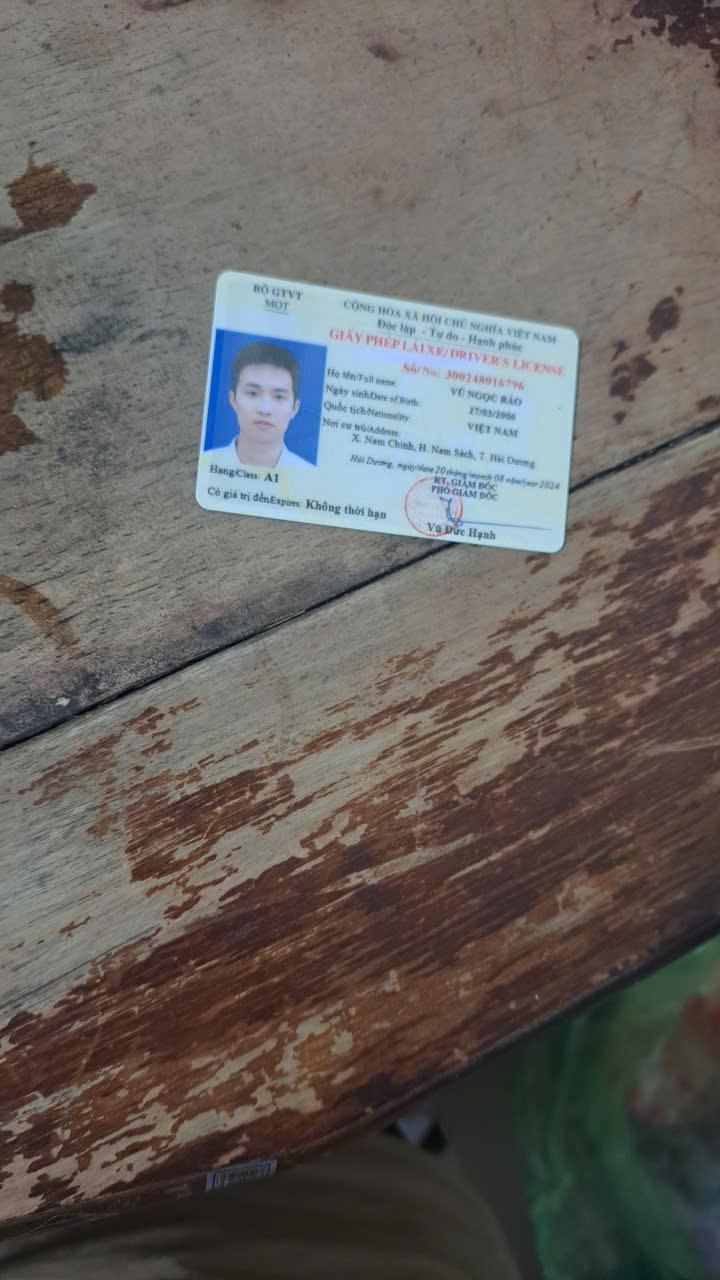gplx: (184, 265, 583, 558)
